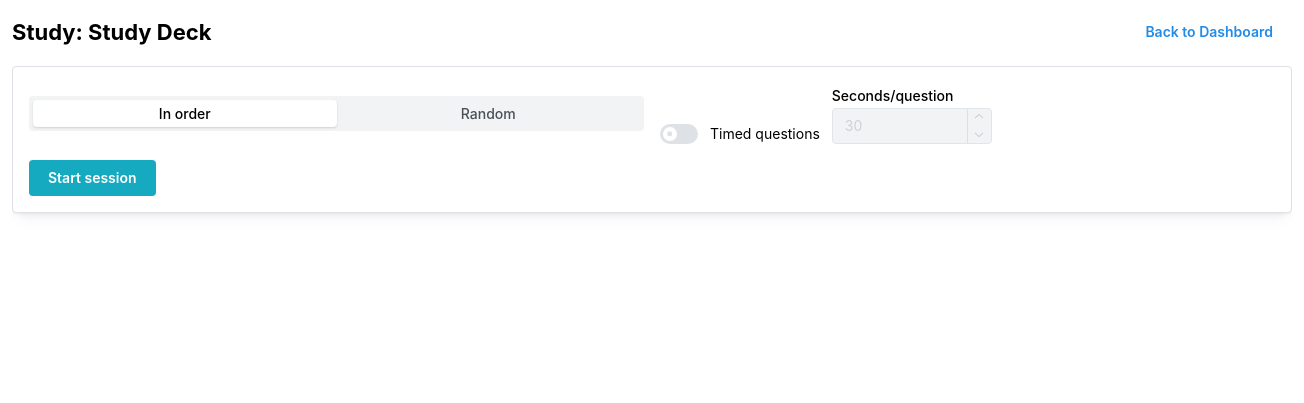
Test case: StudySession › renders pre-session options and starts session
Expected: the heading "Study: Study Deck" is shown, [12,17,212,47]
Click the button "Start session". click: (92, 178)
box: [29,160,156,196]
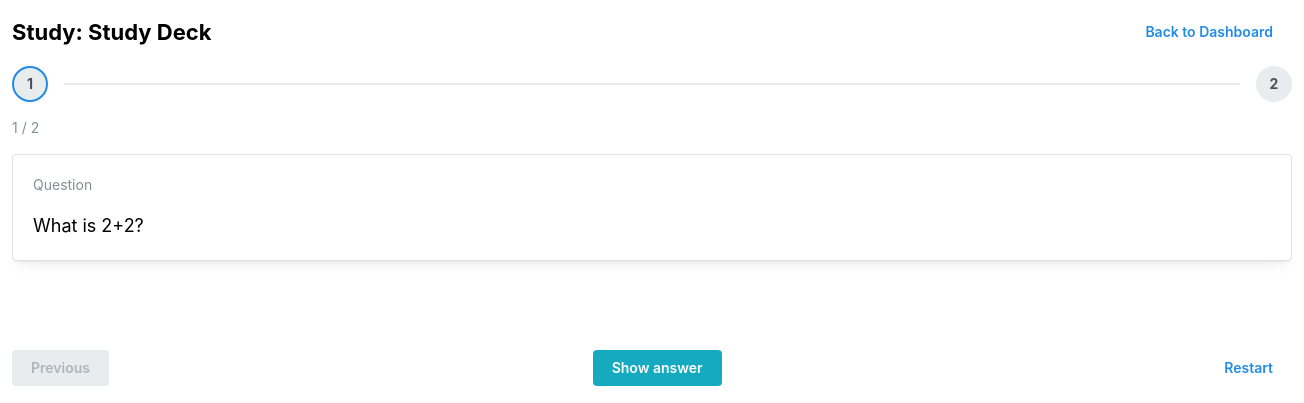
Expected: the text "Question" is shown, [33,176,92,193]
Now the text "What is 2+2?" is shown, box [33,215,144,236]
